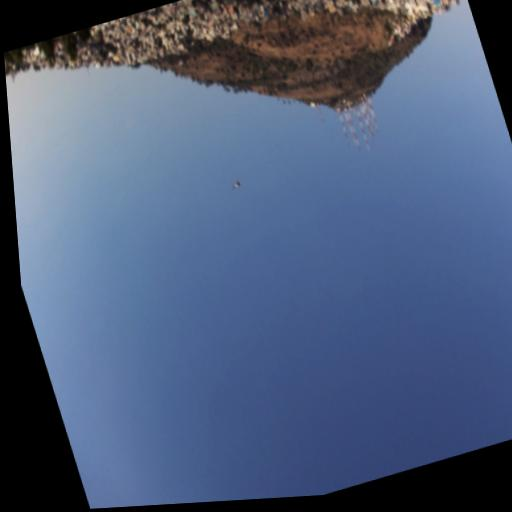drones: (229, 176, 246, 193)
